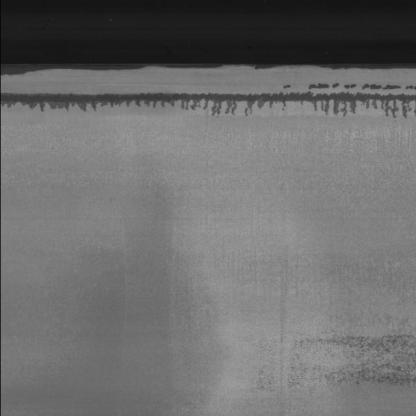oil_spot: (0, 81, 406, 133)
